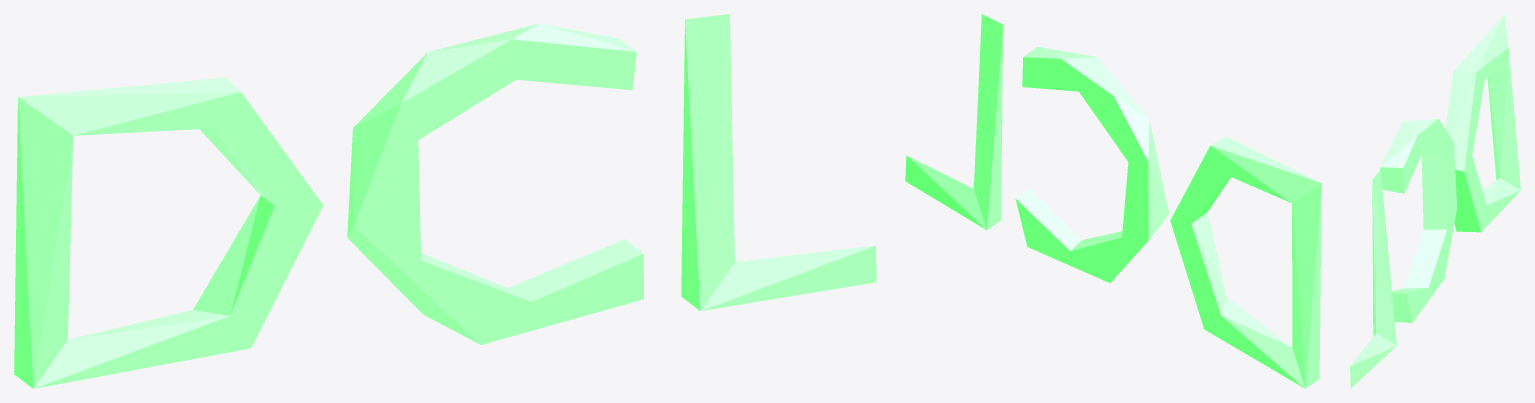
3 views of the same model, side by side, from view 1: azimuth 30°, elevation 25°; view 2: azimuth 150°, elevation 25°; view 3: azimuth 270°, elevation 25° (orthographic). The views are drawn at different scales.
Parts seen in each view (by area): view 1: Text1_DCL_Green; view 2: Text1_DCL_Green; view 3: Text1_DCL_Green.
Part boxes in pixels (x1=…): Text1_DCL_Green: x1=14, y1=14, x2=876, y2=388; Text1_DCL_Green: x1=905, y1=14, x2=1321, y2=388; Text1_DCL_Green: x1=1350, y1=14, x2=1520, y2=388.
Size of the model in its own units: 0.00359 by 0.00146 by 0.00122.
